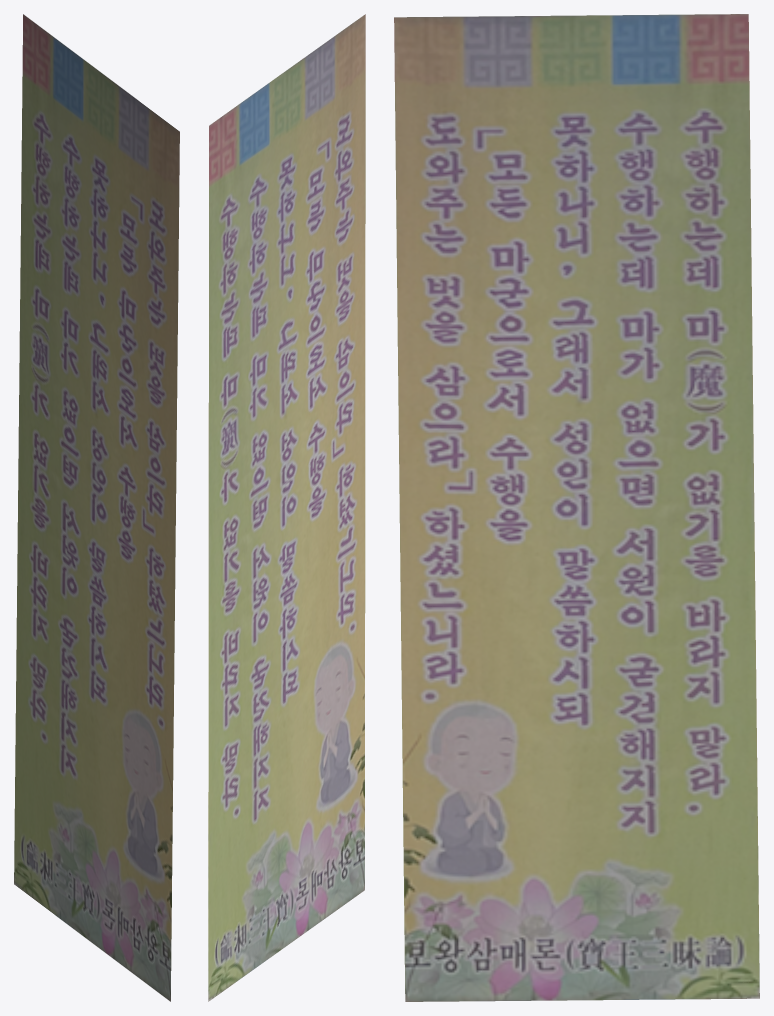
File: flag01.glb
3 renders of one model, left to right at view 1: azimuth 30°, elevation 25°; view 2: azimuth 150°, elevation 25°; view 3: azimuth 270°, elevation 25°, orthographic. The views are drawn at different scales.
Parts seen in each view (by area): view 1: 평면; view 2: 평면; view 3: 평면.
Part boxes in pixels (x1,y1,x2,y2): 평면: (14,14,179,1001); 평면: (208,14,365,1001); 평면: (394,14,759,1001).
Size of the model in its own units: 0.0425 by 8.48 by 2.84.
1 material, 1 textured.
